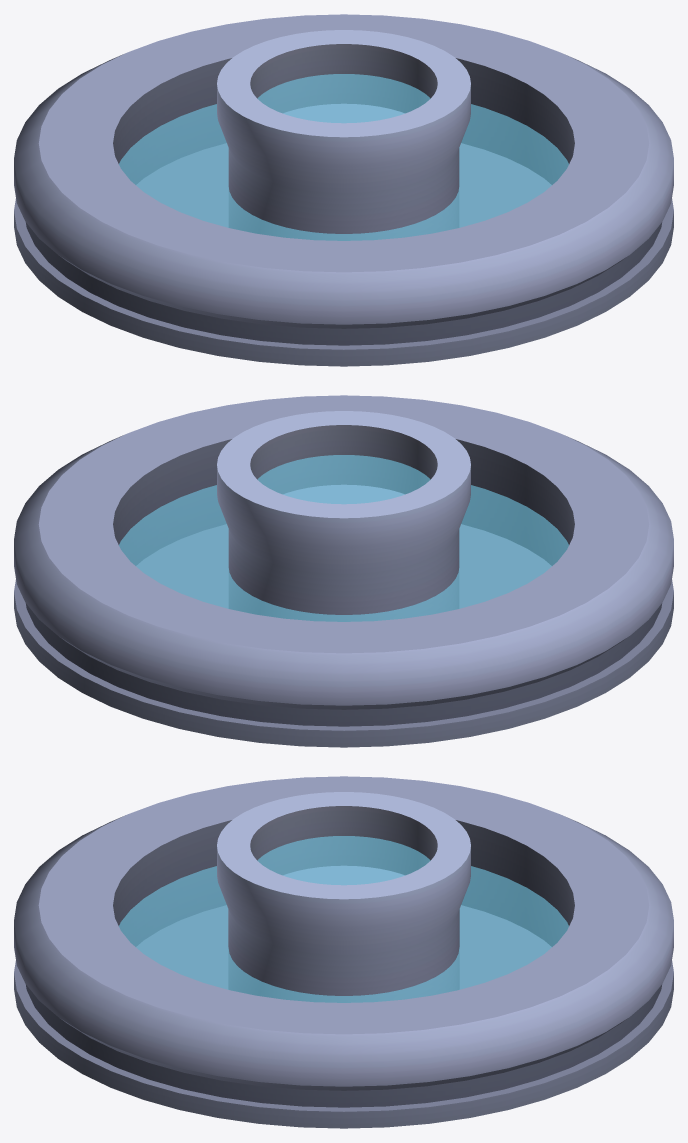
The model's file is fountain-round-detail.glb.
3 views of the same model, one above another, from view 1: azimuth 30°, elevation 25°; view 2: azimuth 150°, elevation 25°; view 3: azimuth 270°, elevation 25° (orthographic).
Parts seen in each view (by area): view 1: fountain-round-detail, (%ignore); view 2: fountain-round-detail, (%ignore); view 3: fountain-round-detail, (%ignore).
Part boxes in pixels (x1,y1,x2,y2): fountain-round-detail: (14, 14, 673, 366); (%ignore): (119, 74, 568, 240); fountain-round-detail: (14, 395, 673, 747); (%ignore): (119, 455, 568, 621); fountain-round-detail: (14, 776, 673, 1128); (%ignore): (119, 836, 568, 1002).
Size of the model in its own units: 2 by 0.48 by 2.
Materials: 2 (1 with a texture image).
